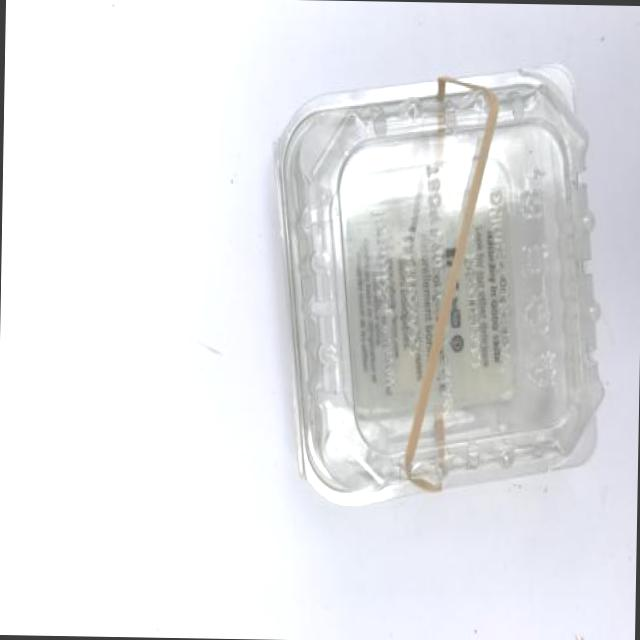Trash: (262, 76, 608, 512)
